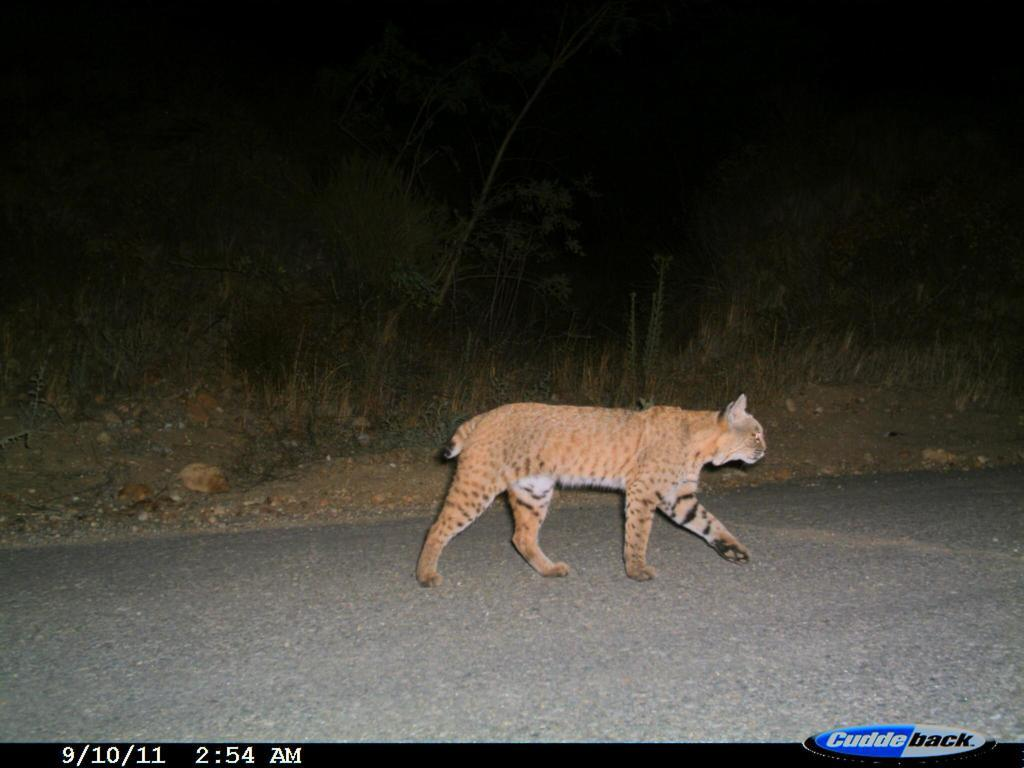bobcat: (404, 385, 783, 593)
